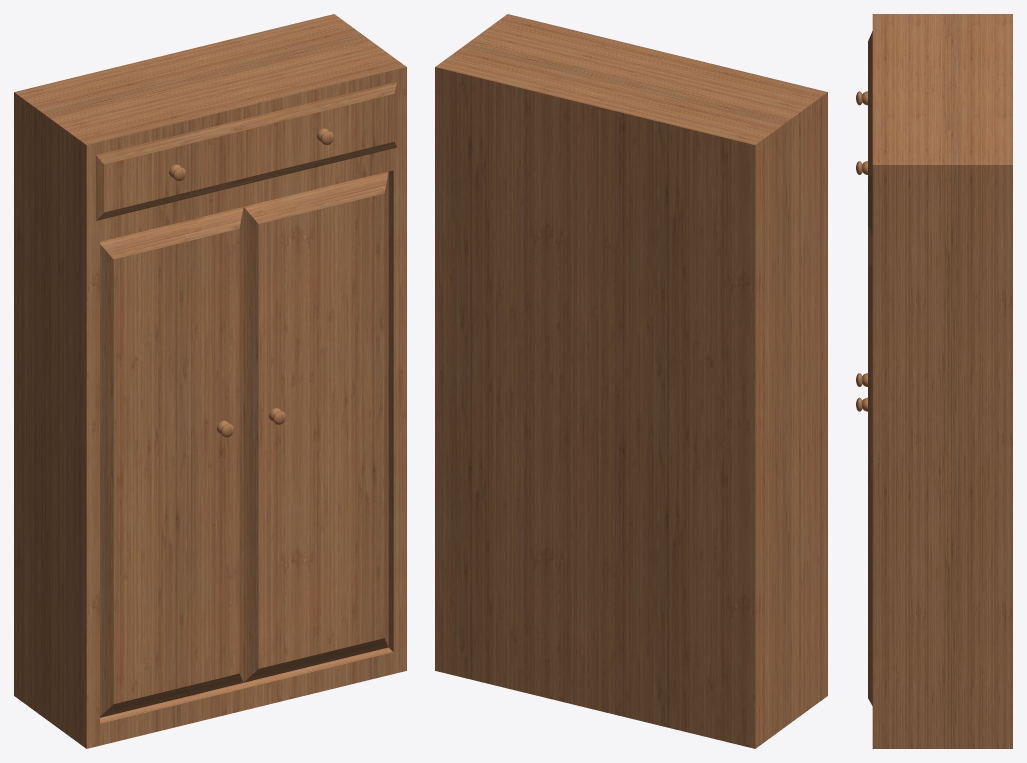
Rendered from wardrobe.glb.
The picture shows the model from 3 angles, left to right: view 1: azimuth 30°, elevation 25°; view 2: azimuth 150°, elevation 25°; view 3: azimuth 270°, elevation 25°; orthographic projection. The views are drawn at different scales.
Visible parts, largest first — view 1: Wardrobe; view 2: Wardrobe; view 3: Wardrobe.
Boxes of the visible parts, bbox=[...] form: Wardrobe: bbox=[14, 14, 406, 748]; Wardrobe: bbox=[435, 14, 827, 748]; Wardrobe: bbox=[856, 14, 1012, 748].
Size of the model in its own units: 5.1 by 9.19 by 2.24.
Materials: 2 (2 with a texture image).
